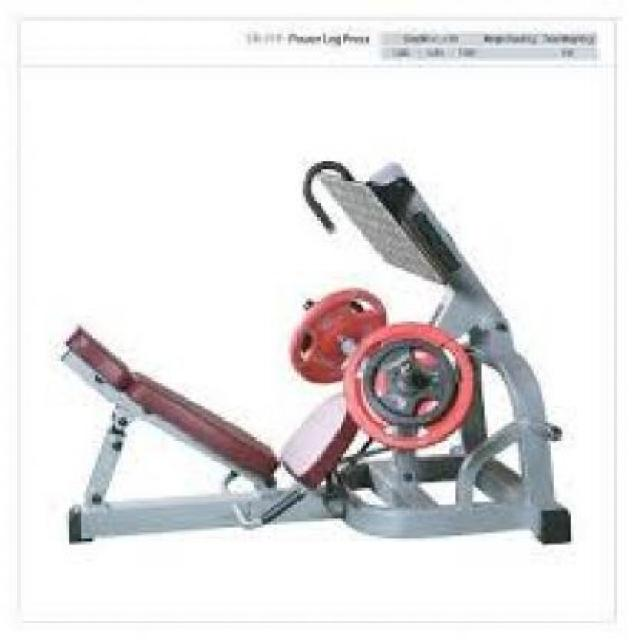leg press: (42, 122, 583, 586)
